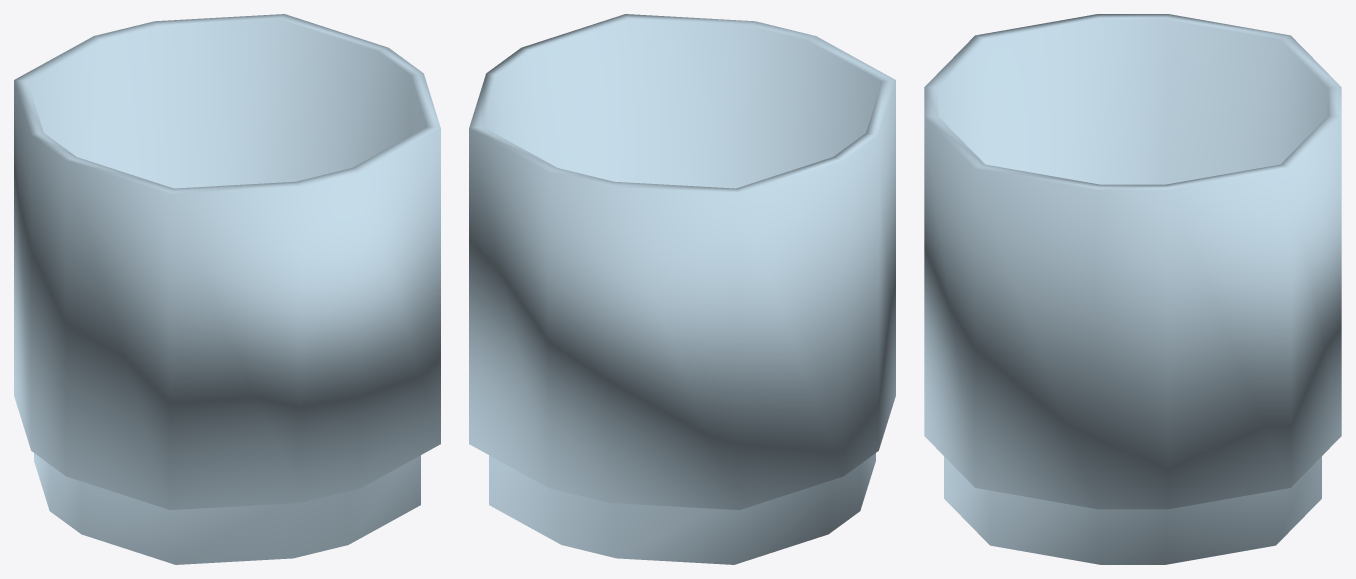
The model's file is glass.fbx.
The picture shows the model from 3 angles, left to right: view 1: azimuth 30°, elevation 25°; view 2: azimuth 150°, elevation 25°; view 3: azimuth 270°, elevation 25°; orthographic projection.
Parts seen in each view (by area): view 1: Cube.001; view 2: Cube.001; view 3: Cube.001.
Boxes of the visible parts, x1,y1,x2,y2 form: Cube.001: (14, 14, 440, 564); Cube.001: (469, 14, 895, 564); Cube.001: (924, 14, 1341, 564).
Bounding box in the file's own units: 11.91 × 12.06 × 11.91.
